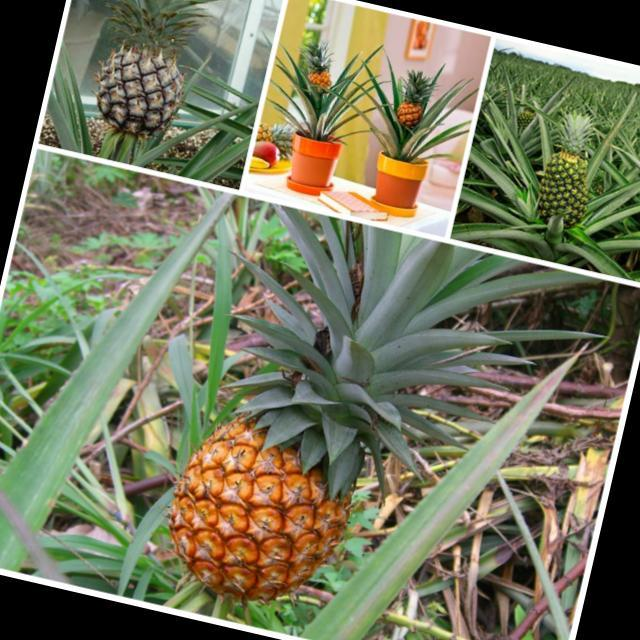PINEAPLE: (160, 217, 436, 618), (82, 0, 226, 156), (520, 100, 610, 232), (389, 58, 446, 140), (292, 43, 351, 107)
